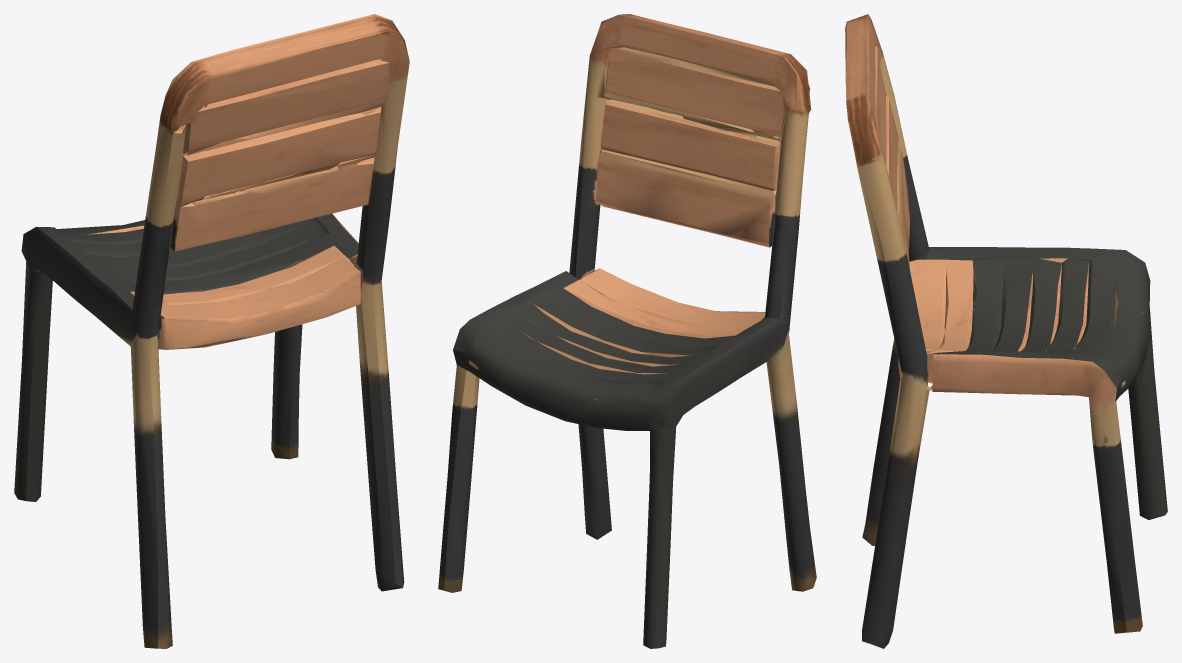
The model's file is seat_cafe-table_v2.glb.
3 views of the same model, side by side, from view 1: azimuth 30°, elevation 25°; view 2: azimuth 150°, elevation 25°; view 3: azimuth 270°, elevation 25° (orthographic). The views are drawn at different scales.
Parts seen in each view (by area): view 1: body; view 2: body; view 3: body.
Part boxes in pixels (x1,y1,x2,y2): body: [14, 14, 409, 648]; body: [438, 14, 816, 648]; body: [845, 14, 1167, 648].
Size of the model in its own units: 0.4654 by 0.9131 by 0.4901.
Materials: 1 (1 with a texture image).
